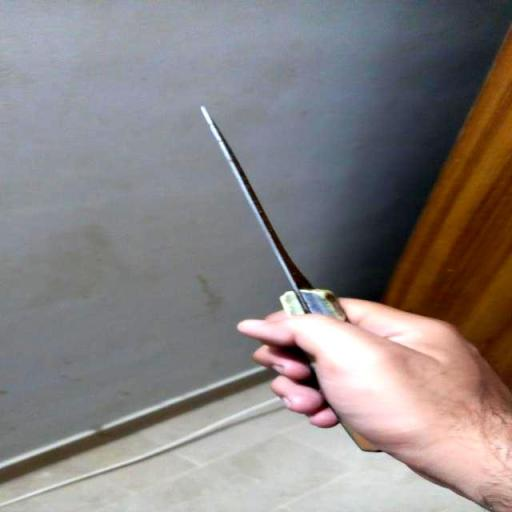knife: (185, 84, 425, 364)
